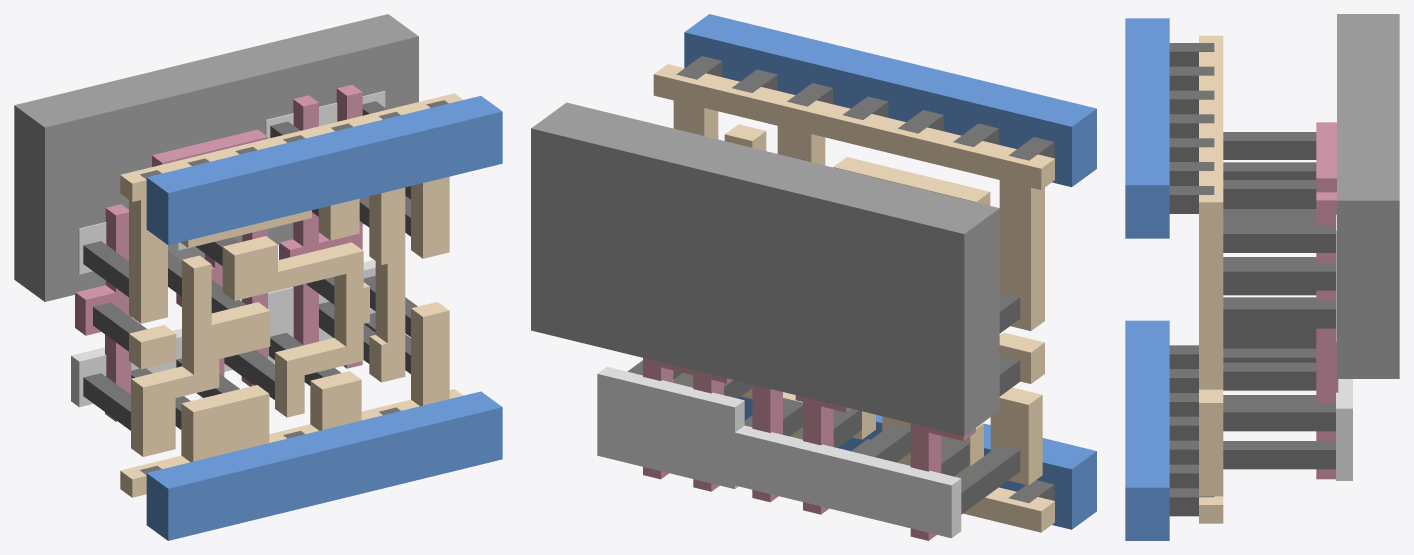
Rendered from sky130_fd_sc_hd__or2b_2.gds.gltf.
3 renders of one model, left to right at view 1: azimuth 30°, elevation 25°; view 2: azimuth 150°, elevation 25°; view 3: azimuth 270°, elevation 25°, orthographic. The views are drawn at different scales.
Parts seen in each view (by area): view 1: sky130_fd_sc_hd__or2b_2_li1, sky130_fd_sc_hd__or2b_2_met1, sky130_fd_sc_hd__or2b_2_nwell, sky130_fd_sc_hd__or2b_2_licon, sky130_fd_sc_hd__or2b_2_poly, sky130_fd_sc_hd__or2b_2_diff, sky130_fd_sc_hd__or2b_2_mcon; view 2: sky130_fd_sc_hd__or2b_2_nwell, sky130_fd_sc_hd__or2b_2_li1, sky130_fd_sc_hd__or2b_2_met1, sky130_fd_sc_hd__or2b_2_diff, sky130_fd_sc_hd__or2b_2_licon, sky130_fd_sc_hd__or2b_2_poly, sky130_fd_sc_hd__or2b_2_mcon; view 3: sky130_fd_sc_hd__or2b_2_licon, sky130_fd_sc_hd__or2b_2_nwell, sky130_fd_sc_hd__or2b_2_met1, sky130_fd_sc_hd__or2b_2_mcon, sky130_fd_sc_hd__or2b_2_li1, sky130_fd_sc_hd__or2b_2_poly, sky130_fd_sc_hd__or2b_2_diff.
Part boxes in pixels (bbox=[...]): sky130_fd_sc_hd__or2b_2_li1: bbox=[120, 93, 463, 497]; sky130_fd_sc_hd__or2b_2_met1: bbox=[146, 96, 502, 540]; sky130_fd_sc_hd__or2b_2_nwell: bbox=[14, 14, 418, 301]; sky130_fd_sc_hd__or2b_2_licon: bbox=[83, 101, 417, 430]; sky130_fd_sc_hd__or2b_2_poly: bbox=[75, 84, 362, 421]; sky130_fd_sc_hd__or2b_2_diff: bbox=[71, 91, 385, 407]; sky130_fd_sc_hd__or2b_2_mcon: bbox=[140, 100, 448, 474]; sky130_fd_sc_hd__or2b_2_nwell: bbox=[531, 102, 999, 435]; sky130_fd_sc_hd__or2b_2_li1: bbox=[653, 64, 1054, 532]; sky130_fd_sc_hd__or2b_2_met1: bbox=[684, 14, 1096, 529]; sky130_fd_sc_hd__or2b_2_diff: bbox=[597, 366, 961, 538]; sky130_fd_sc_hd__or2b_2_licon: bbox=[627, 130, 1020, 514]; sky130_fd_sc_hd__or2b_2_poly: bbox=[643, 358, 975, 540]; sky130_fd_sc_hd__or2b_2_mcon: bbox=[676, 56, 1054, 502]; sky130_fd_sc_hd__or2b_2_licon: bbox=[1223, 132, 1335, 469]; sky130_fd_sc_hd__or2b_2_nwell: bbox=[1337, 14, 1399, 378]; sky130_fd_sc_hd__or2b_2_met1: bbox=[1125, 18, 1169, 540]; sky130_fd_sc_hd__or2b_2_mcon: bbox=[1169, 43, 1214, 516]; sky130_fd_sc_hd__or2b_2_li1: bbox=[1199, 35, 1223, 523]; sky130_fd_sc_hd__or2b_2_poly: bbox=[1316, 122, 1338, 479]; sky130_fd_sc_hd__or2b_2_diff: bbox=[1336, 214, 1352, 480].
Bounding box in the file's own units: 3.6 × 3.2 × 2.24.
